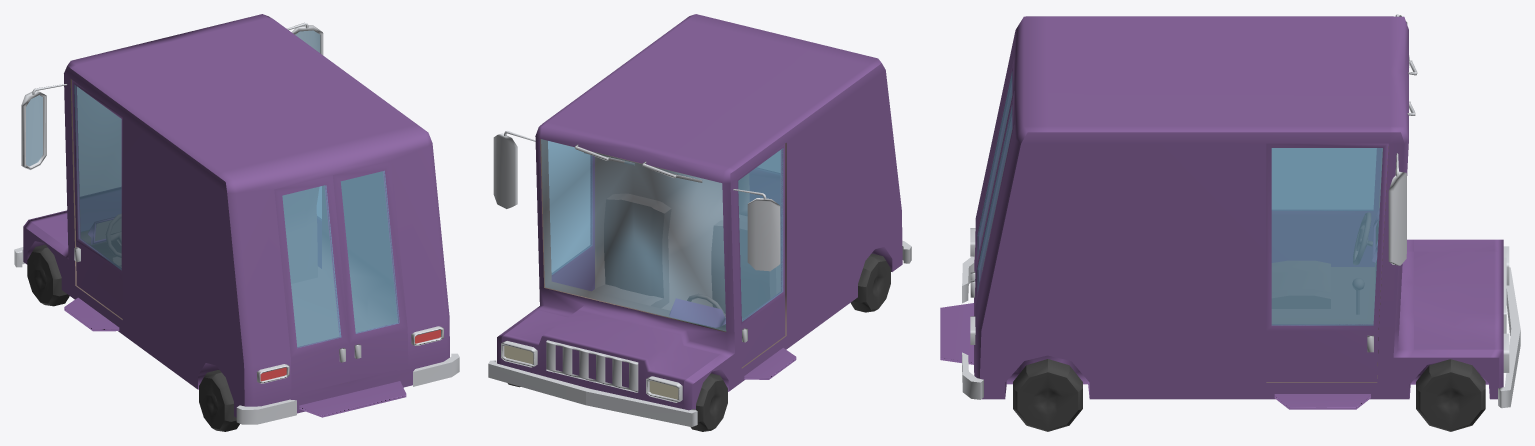
Rendered from KFB_CVP1_transporter.glb.
The picture shows the model from 3 angles, left to right: view 1: azimuth 30°, elevation 25°; view 2: azimuth 150°, elevation 25°; view 3: azimuth 270°, elevation 25°; orthographic projection. The views are drawn at different scales.
Visible parts, largest first — view 1: CarMesh, Interior, Window.4, Window.2, Window.3, DoorBackL, DoorBackR, DoorL, SeatR, BumperRear, Hood, MirrorCase (+6 smaller); view 2: CarMesh, WIndowFront.1, Interior, Hood, SeatR, Window, Window.2, BumperFront, DoorL, SeatL, MirrorCase, Grille (+9 smaller); view 3: CarMesh, Window, Hood, DoorR, Window.2, DoorL, WheelRR, WheelFR, Interior, SeatL, StepBac, MirrorCase.2 (+7 smaller).
Boxes of the visible parts, left/top/right/bottom form: CarMesh: left=23, top=14, right=449, bottom=417; Interior: left=70, top=79, right=397, bottom=346; Window.4: left=282, top=185, right=341, bottom=347; Window.2: left=74, top=84, right=121, bottom=270; Window.3: left=340, top=171, right=399, bottom=333; DoorBackL: left=274, top=175, right=349, bottom=395; DoorBackR: left=333, top=161, right=408, bottom=381; DoorL: left=72, top=80, right=122, bottom=318; SeatR: left=282, top=187, right=318, bottom=283; BumperRear: left=236, top=353, right=459, bottom=424; Hood: left=28, top=187, right=120, bottom=247; MirrorCase: left=21, top=91, right=46, bottom=169; CarMesh: left=497, top=14, right=902, bottom=410; WIndowFront.1: left=541, top=139, right=726, bottom=331; Interior: left=540, top=139, right=786, bottom=368; Hood: left=501, top=310, right=719, bottom=404; SeatR: left=592, top=193, right=671, bottom=308; Window: left=548, top=141, right=592, bottom=274; Window.2: left=738, top=148, right=783, bottom=321; BumperFront: left=488, top=360, right=697, bottom=427; DoorL: left=737, top=144, right=785, bottom=367; SeatL: left=711, top=220, right=775, bottom=318; MirrorCase: left=747, top=198, right=780, bottom=271; Grille: left=546, top=340, right=638, bottom=392; CarMesh: left=974, top=16, right=1503, bottom=399; Window: left=1271, top=148, right=1382, bottom=325; Hood: left=1414, top=239, right=1503, bottom=349; DoorR: left=1266, top=143, right=1388, bottom=381; Window.2: left=1272, top=148, right=1376, bottom=210; DoorL: left=1272, top=148, right=1381, bottom=266; WheelRR: left=1013, top=359, right=1082, bottom=431; WheelFR: left=1416, top=359, right=1485, bottom=431; Interior: left=982, top=97, right=1388, bottom=382; SeatL: left=1272, top=261, right=1330, bottom=308; StepBac: left=940, top=303, right=973, bottom=364; MirrorCase.2: left=1388, top=171, right=1406, bottom=265.
Bounding box in the file's own units: 2.93 × 2.39 × 4.17.
